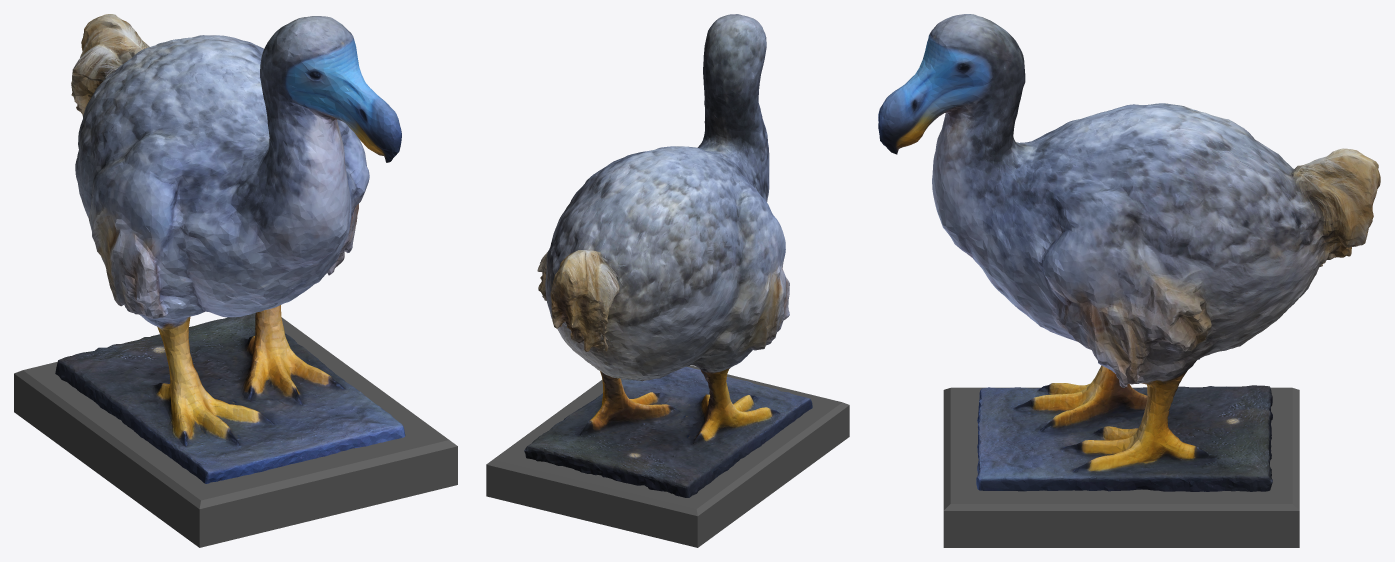
The model's file is dodo.glb.
The picture shows the model from 3 angles, left to right: view 1: azimuth 30°, elevation 25°; view 2: azimuth 150°, elevation 25°; view 3: azimuth 270°, elevation 25°; orthographic projection. The views are drawn at different scales.
Visible parts, largest first — view 1: dodo, Cube_Cube.001; view 2: dodo, Cube_Cube.001; view 3: dodo, Cube_Cube.001.
Part boxes in pixels (left/top/right/bottom): dodo: left=55, top=14, right=405, bottom=483; Cube_Cube.001: left=14, top=317, right=457, bottom=547; dodo: left=524, top=14, right=812, bottom=497; Cube_Cube.001: left=486, top=365, right=849, bottom=547; dodo: left=878, top=14, right=1380, bottom=491; Cube_Cube.001: left=943, top=387, right=1299, bottom=547.
Bounding box in the file's own units: 5.28 × 9.45 × 9.19.
Materials: 3 (2 with a texture image).
